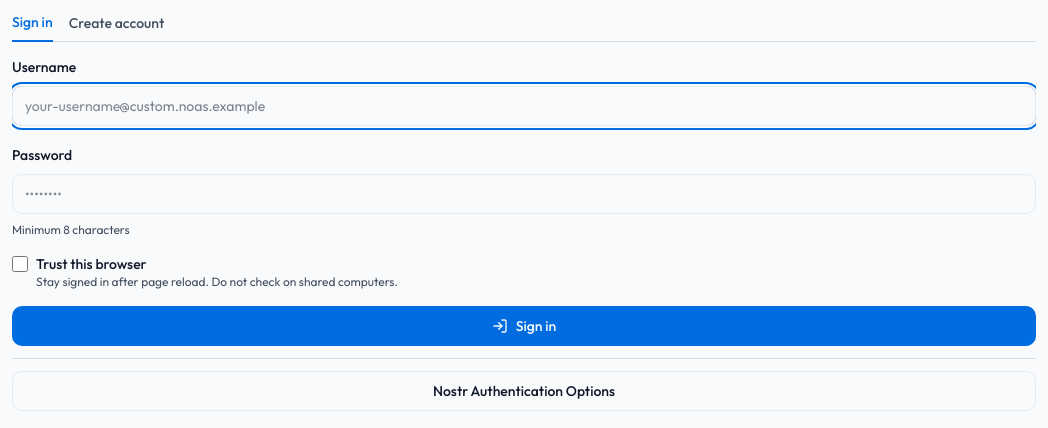
Test case: Noas auth forms › submits matching noas auth url and nip05 domain
In the field labelled "Username": (524, 106) [12,86,1036,126], type "alice"
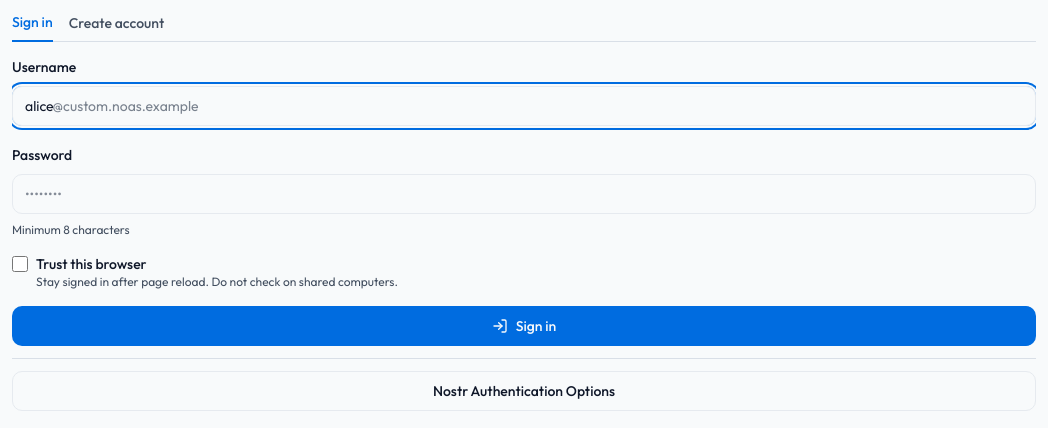
In the password field labelled "Password": (524, 194) [12,174,1036,214], type "password123"
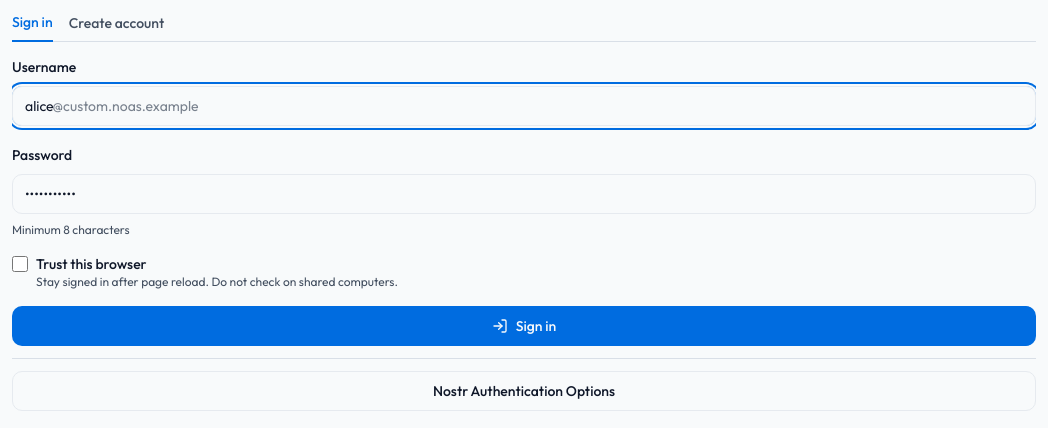
Submit the form labelled "Username"
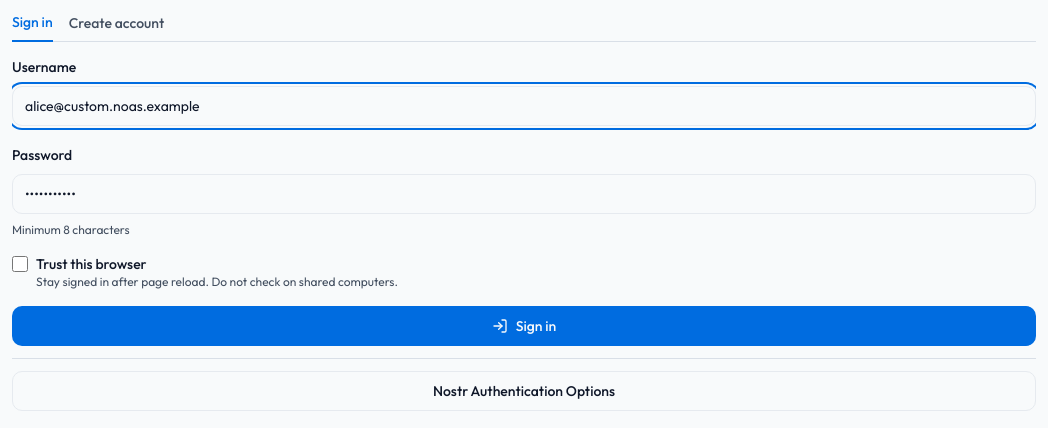
Result: the field labelled "Username" holds "alice@custom.noas.example" at [12,86,1036,126]
